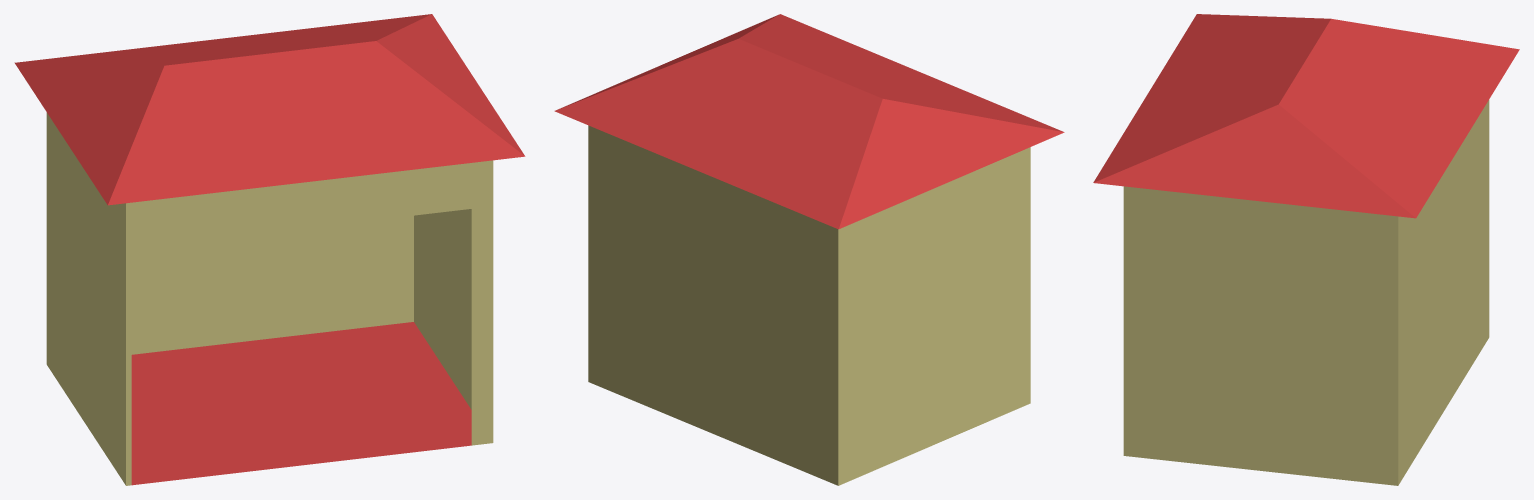
3 views of the same model, side by side, from view 1: azimuth 30°, elevation 25°; view 2: azimuth 150°, elevation 25°; view 3: azimuth 270°, elevation 25° (orthographic). The views are drawn at different scales.
Visible parts, largest first — view 1: group_5, group_3, group_6, group_4; view 2: group_5, group_3, group_4; view 3: group_5, group_3, group_4.
Boxes of the visible parts, left/top/right/bottom form: group_5: left=46, top=112, right=493, bottom=485; group_3: left=15, top=14, right=524, bottom=204; group_6: left=131, top=322, right=471, bottom=485; group_4: left=15, top=14, right=525, bottom=205; group_5: left=588, top=125, right=1030, bottom=485; group_3: left=554, top=14, right=1064, bottom=229; group_4: left=555, top=14, right=1063, bottom=228; group_5: left=1123, top=99, right=1489, bottom=485; group_3: left=1093, top=14, right=1519, bottom=217; group_4: left=1093, top=14, right=1514, bottom=218.
Size of the model in its own units: 19.32 by 17.04 by 14.75.
